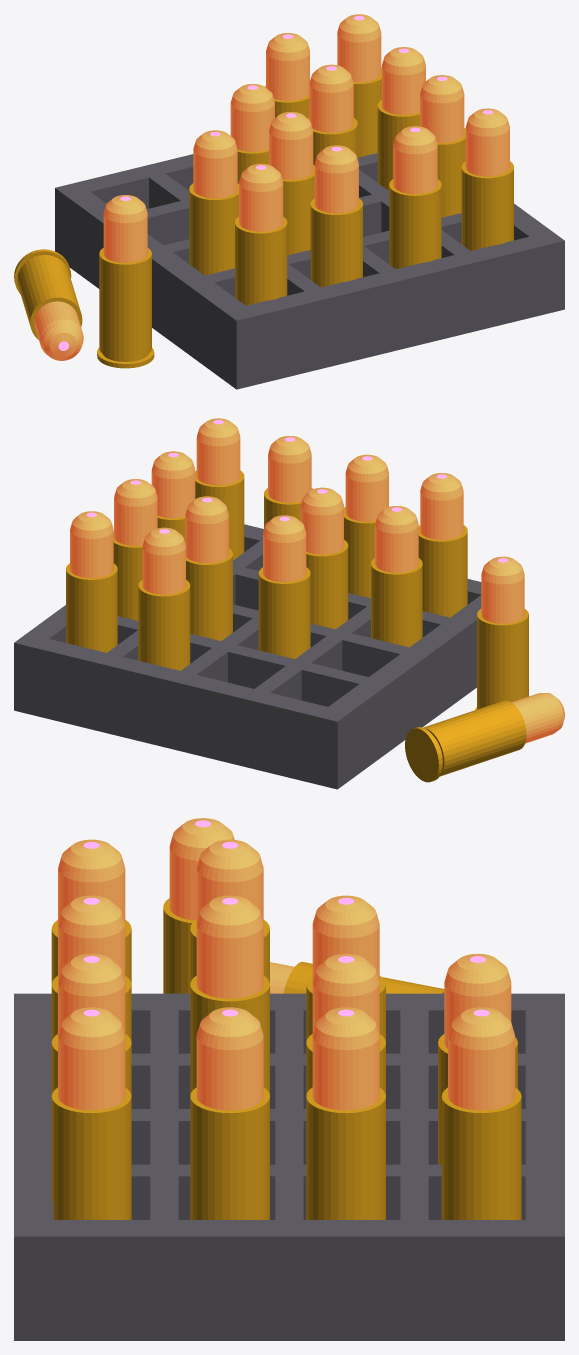
File: Pistol.fbx
The picture shows the model from 3 angles, top to bottom: view 1: azimuth 30°, elevation 25°; view 2: azimuth 150°, elevation 25°; view 3: azimuth 270°, elevation 25°; orthographic projection. The views are drawn at different scales.
Visible parts, largest first — view 1: Cube, Cylinder.013, Cylinder.001, Cylinder, Cylinder.002, Cylinder.003, Cylinder.007, Cylinder.005, Cylinder.006, Cylinder.004, Cylinder.011, Cylinder.008 (+3 smaller); view 2: Cube, Cylinder.005, Cylinder.013, Cylinder.010, Cylinder.012, Cylinder.011, Cylinder.007, Cylinder.003, Cylinder.009, Cylinder.006, Cylinder.002, Cylinder (+3 smaller); view 3: Cube, Cylinder.011, Cylinder, Cylinder.004, Cylinder.008, Cylinder.006, Cylinder.013, Cylinder.002, Cylinder.010, Cylinder.012, Cylinder.003, Cylinder.007 (+3 smaller).
Boxes of the visible parts, x1,y1,x2,y2 form: Cube: [55, 153, 564, 389]; Cylinder.013: [97, 195, 154, 368]; Cylinder.001: [389, 126, 441, 268]; Cylinder: [461, 108, 513, 250]; Cylinder.002: [310, 145, 362, 287]; Cylinder.003: [235, 163, 287, 305]; Cylinder.007: [189, 130, 238, 275]; Cylinder.005: [14, 249, 83, 360]; Cylinder.006: [269, 112, 314, 255]; Cylinder.004: [420, 75, 465, 217]; Cylinder.011: [337, 14, 381, 157]; Cylinder.008: [377, 47, 425, 190]; Cube: [14, 524, 481, 789]; Cylinder.005: [405, 693, 564, 782]; Cylinder.013: [475, 556, 528, 709]; Cylinder.010: [258, 515, 310, 658]; Cylinder.012: [138, 527, 190, 670]; Cylinder.011: [66, 511, 117, 652]; Cylinder.007: [371, 506, 422, 647]; Cylinder.003: [418, 473, 467, 617]; Cylinder.009: [185, 496, 232, 640]; Cylinder.006: [300, 487, 348, 629]; Cylinder.002: [344, 454, 388, 598]; Cylinder: [195, 418, 244, 560]; Cube: [14, 993, 564, 1340]; Cylinder.011: [441, 1007, 521, 1219]; Cylinder: [51, 1007, 131, 1219]; Cylinder.004: [190, 1007, 269, 1219]; Cylinder.008: [306, 1007, 385, 1219]; Cylinder.006: [190, 895, 269, 1094]; Cylinder.013: [163, 818, 234, 993]; Cylinder.002: [51, 895, 131, 1041]; Cylinder.010: [306, 895, 385, 1041]; Cylinder.012: [438, 953, 517, 1164]; Cylinder.003: [51, 839, 131, 983]; Cylinder.007: [190, 839, 269, 982].
Size of the model in its own units: 0.7621 by 0.3195 by 0.5341.
